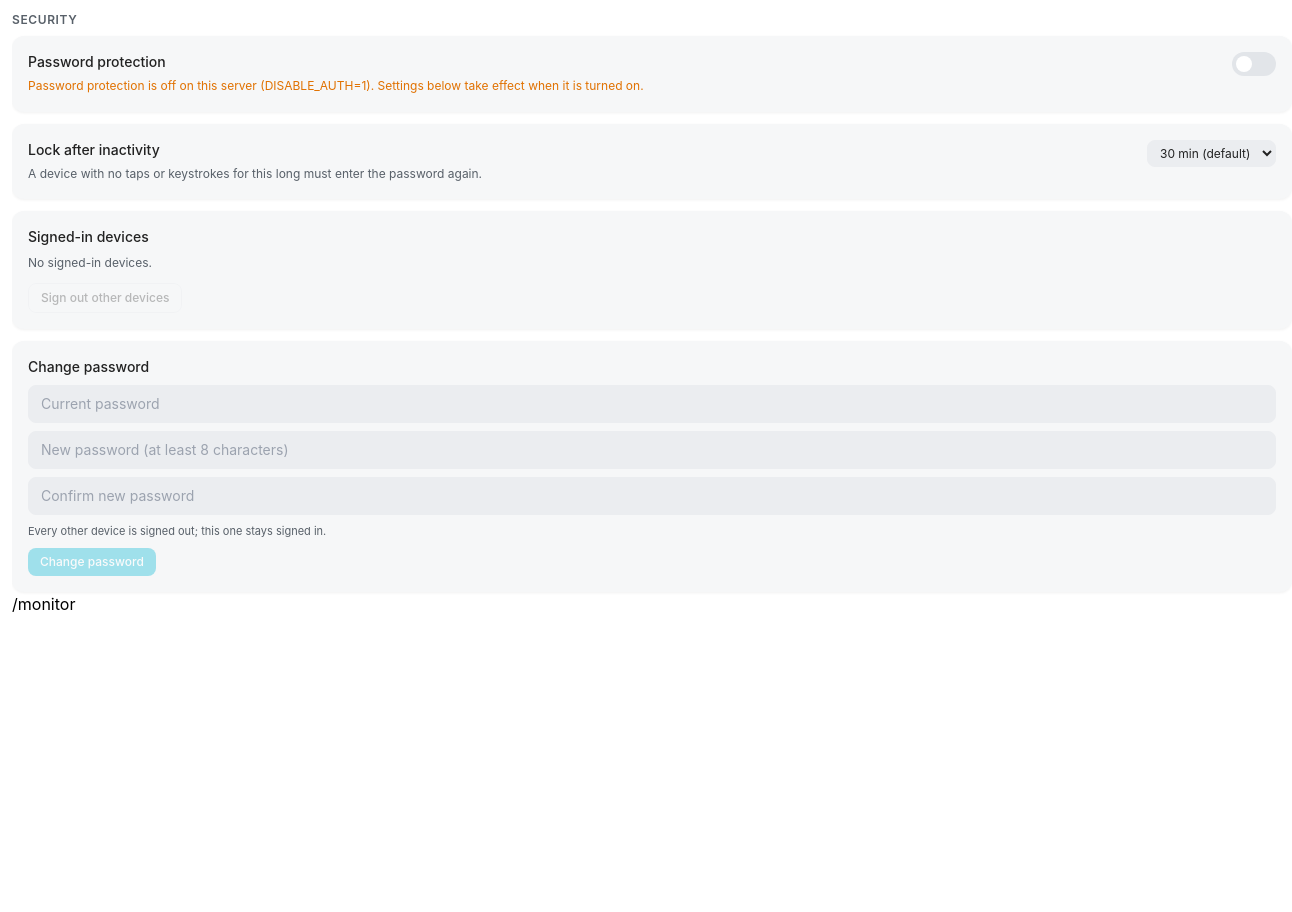
this device › a wrong password while turning on stores nothing and stays off
The image size is (1292, 912).
expect the text "Password protection is off on this server" is shown: met, box x1=28 y1=78 x2=644 y2=93
Click the switch named "Password protection": (1254, 64) x1=1232 y1=52 x2=1276 y2=76
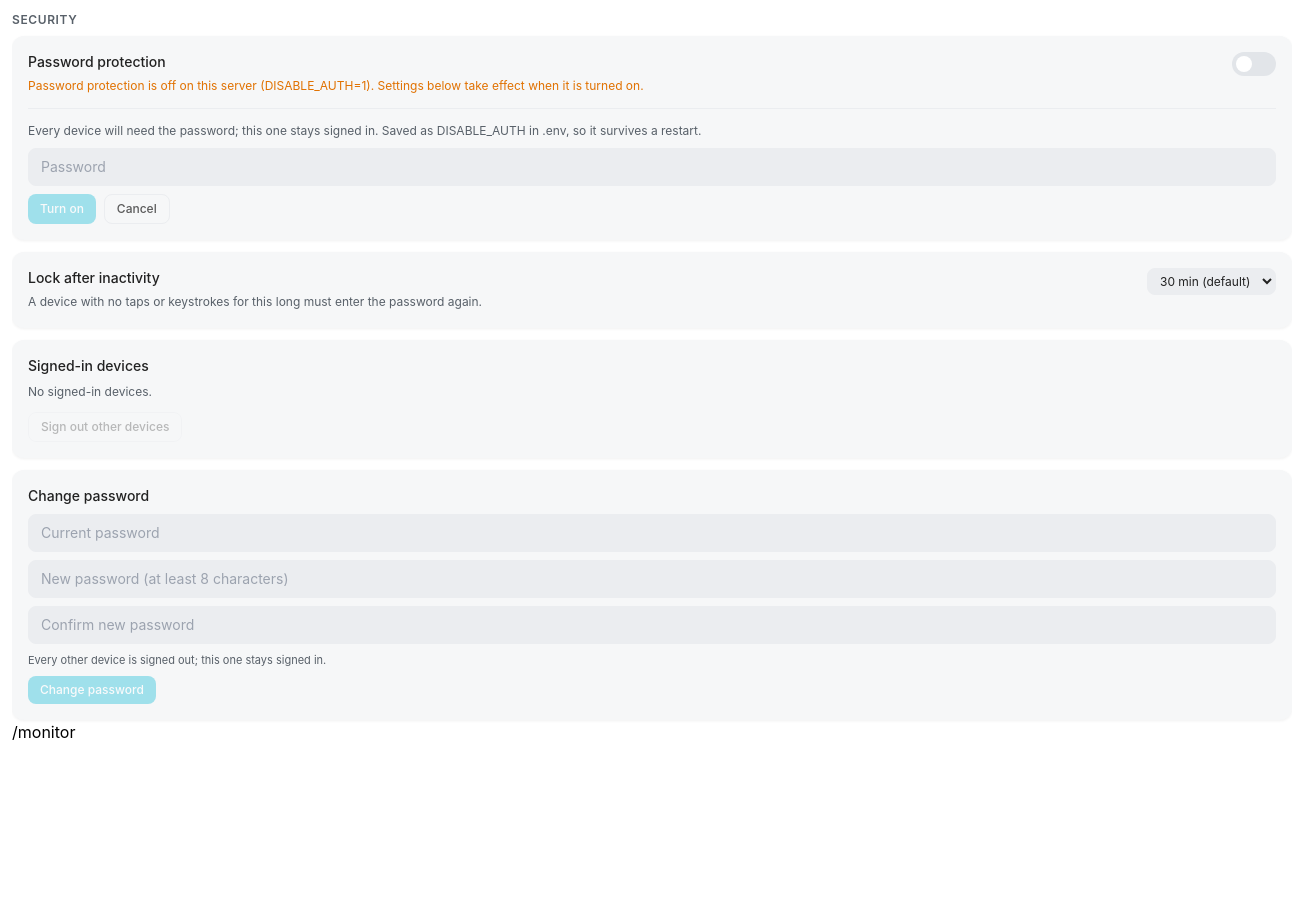
In the password field labelled "Password": (652, 167) x1=28 y1=148 x2=1276 y2=186, type "wrong-password"
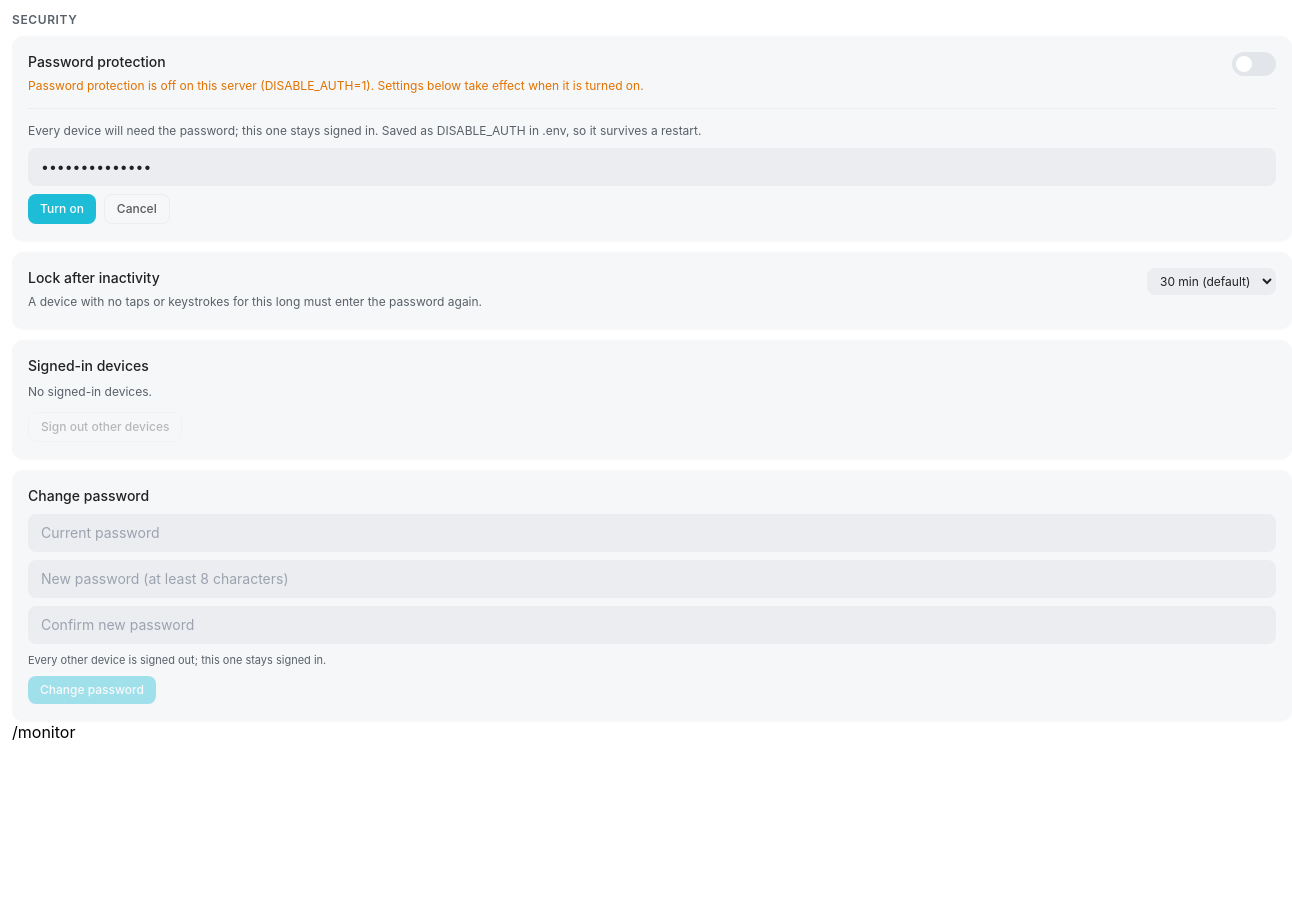
Click the button "Turn on": (62, 209) x1=28 y1=194 x2=96 y2=224
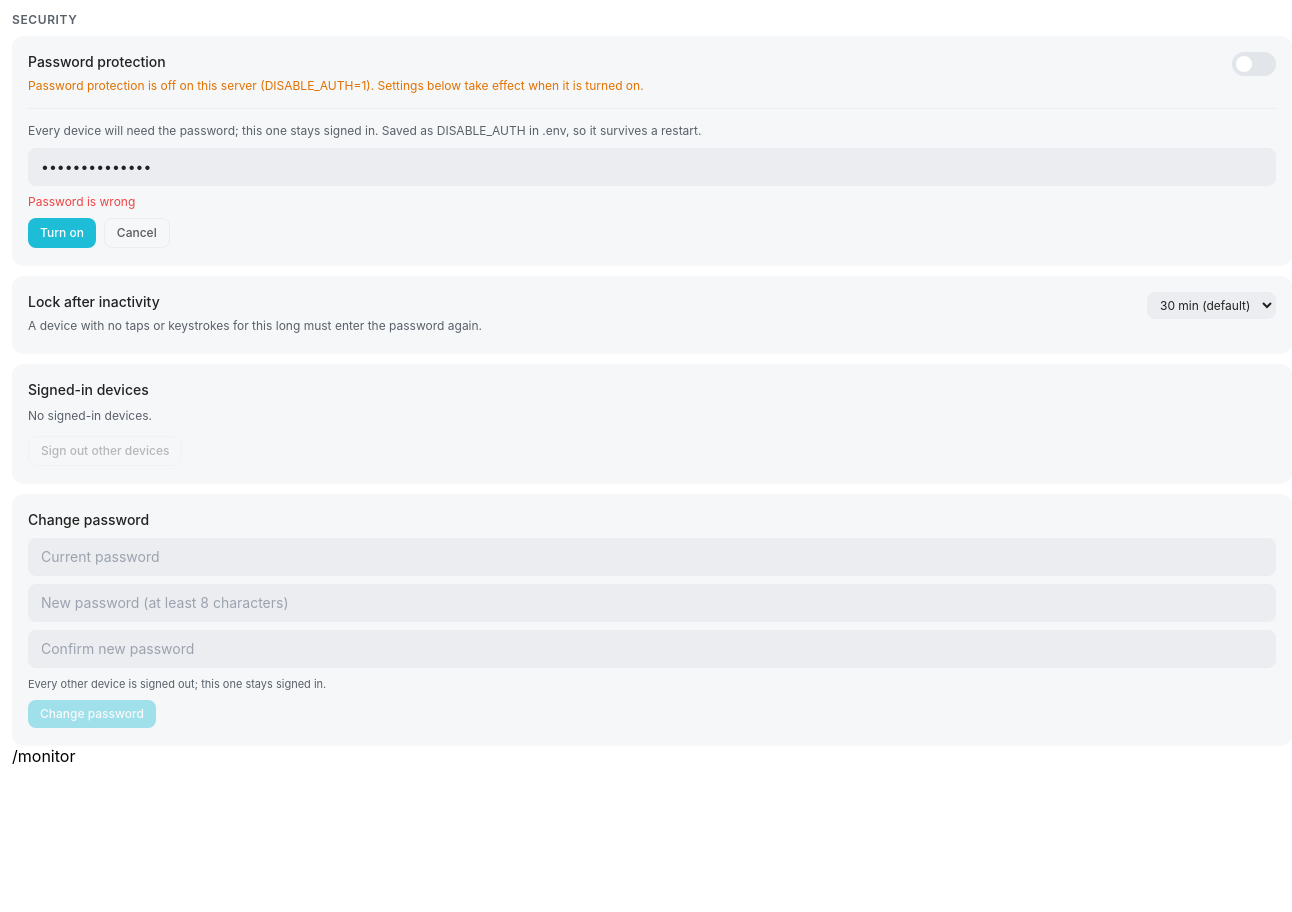
expect the text with test id "location" reads "/monitor": met, box x1=12 y1=746 x2=75 y2=766
expect the message reads "Password is wrong": met, box x1=28 y1=194 x2=135 y2=209
